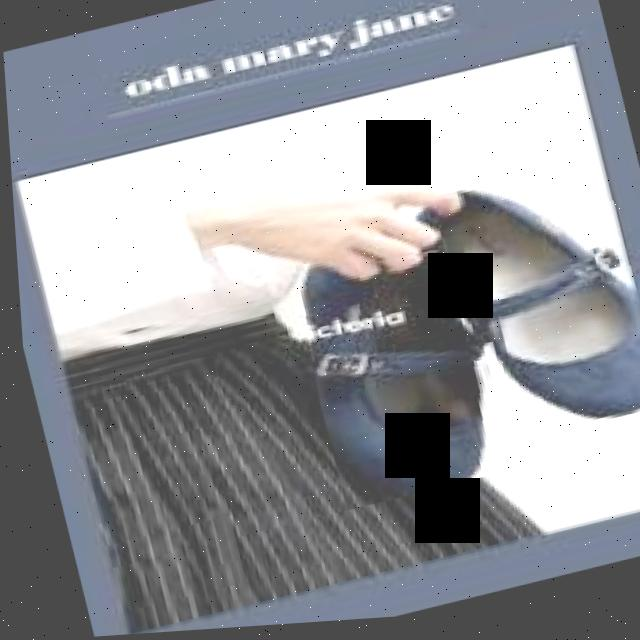shoe: (438, 200, 640, 427), (301, 262, 479, 497)
